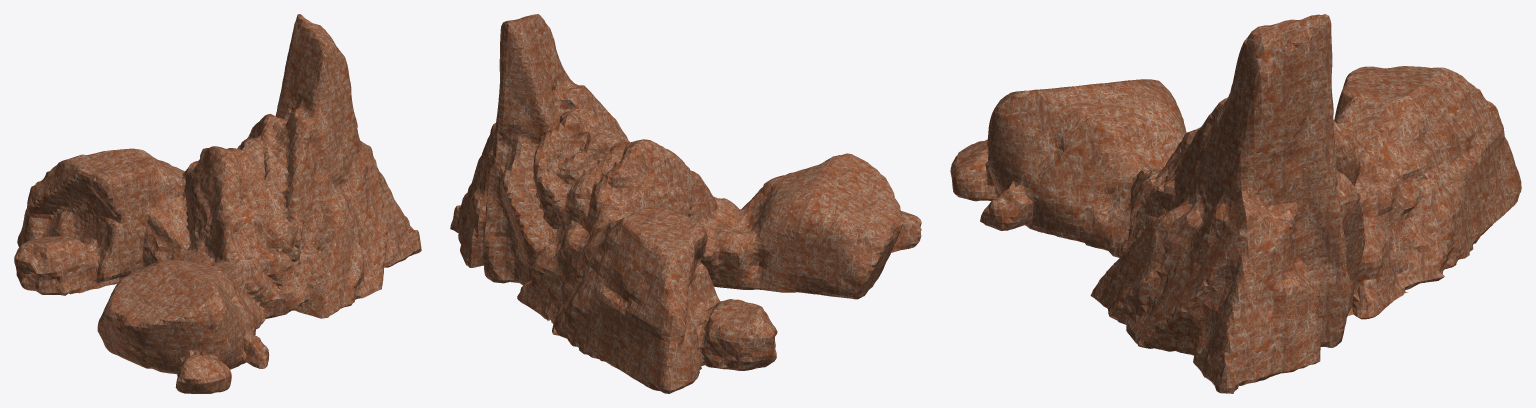
The model's file is martian_rock_02.dae.
The picture shows the model from 3 angles, left to right: view 1: azimuth 30°, elevation 25°; view 2: azimuth 150°, elevation 25°; view 3: azimuth 270°, elevation 25°; orthographic projection. The views are drawn at different scales.
Visible parts, largest first — view 1: 5; view 2: 5; view 3: 5.
Boxes of the visible parts, x1,y1,x2,y2 form: 5: (14, 14, 421, 393); 5: (450, 14, 921, 393); 5: (950, 14, 1521, 393).
Size of the model in its own units: 0.5962 by 0.5987 by 0.3721.
1 material, 1 textured.
